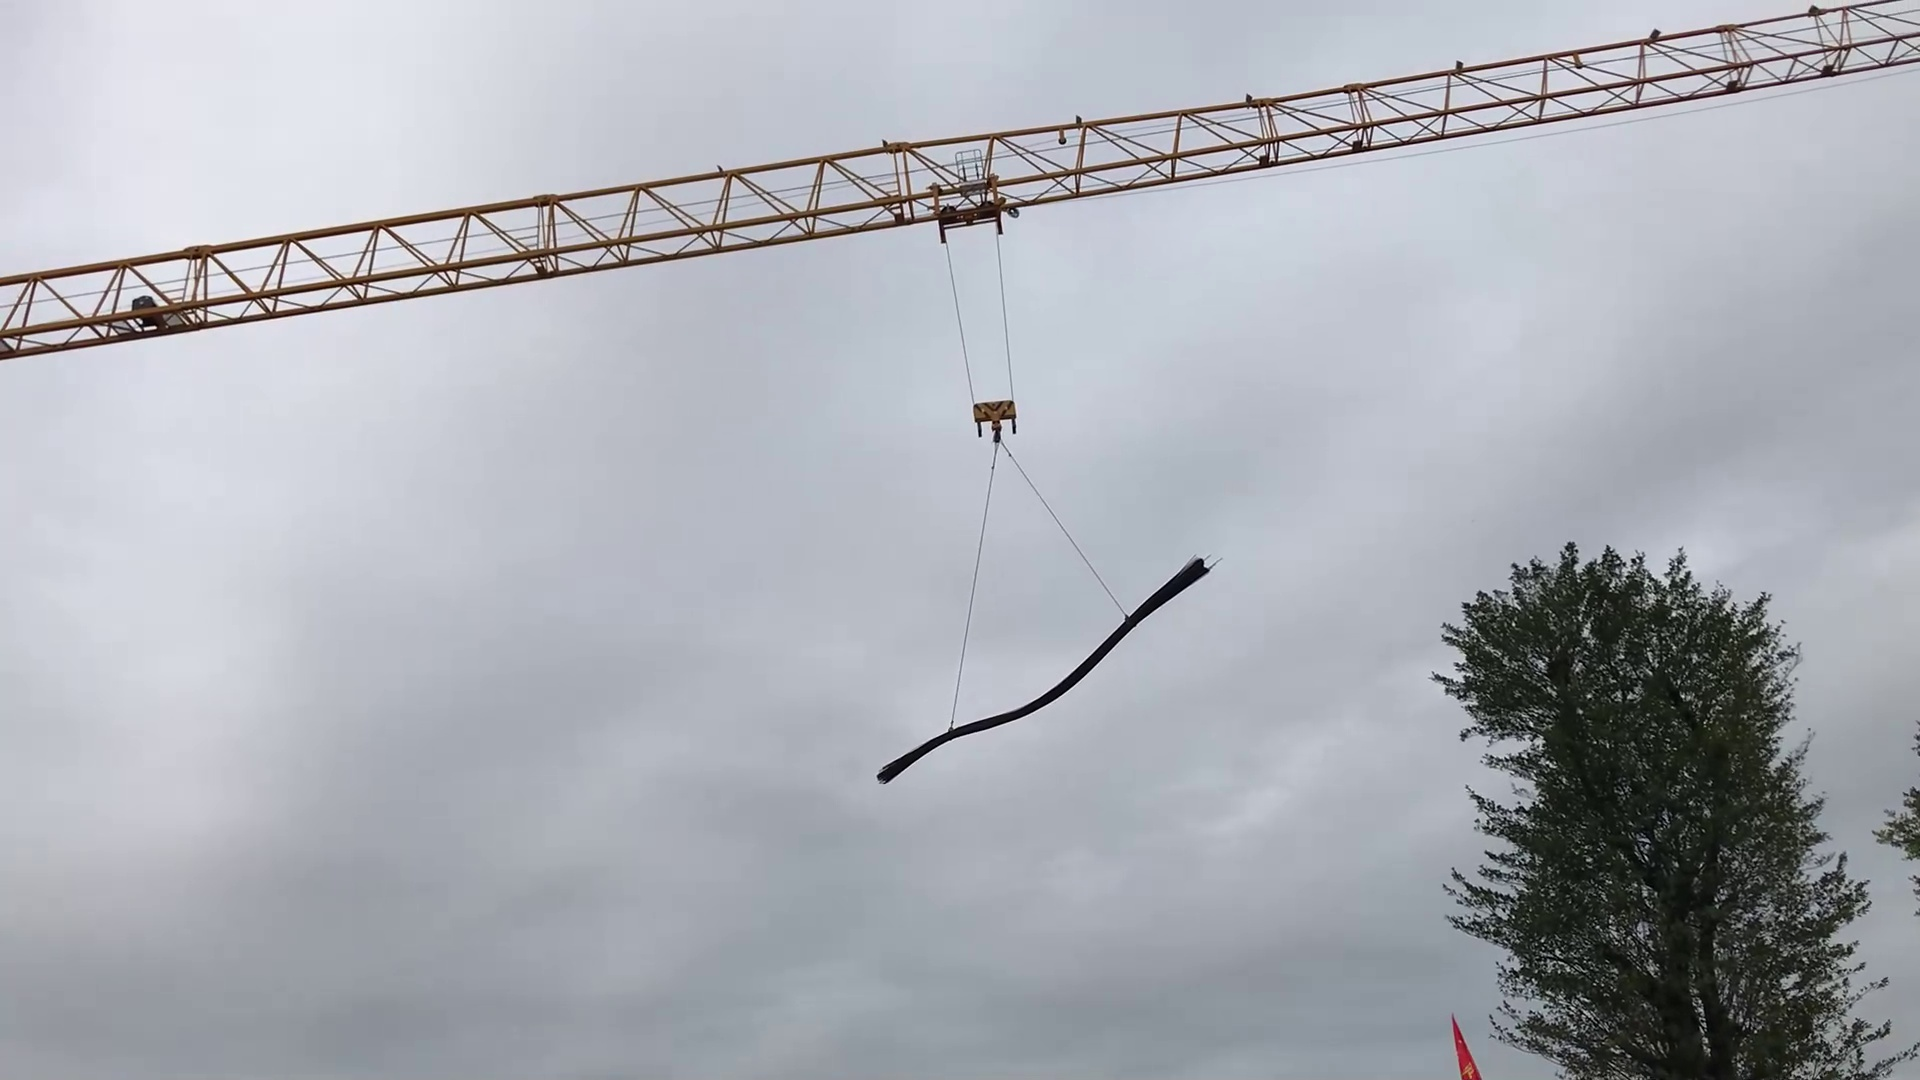hook: (952, 373, 1087, 477)
